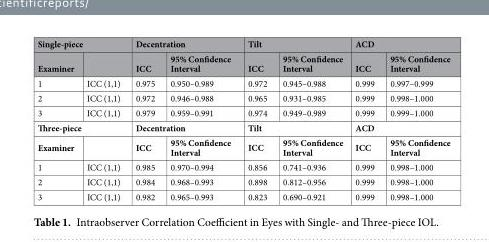table: (36, 37, 449, 202)
table column: (161, 37, 238, 202), (274, 37, 348, 202), (381, 37, 449, 202), (79, 37, 127, 202), (36, 37, 79, 202), (238, 37, 274, 202), (127, 37, 161, 202), (348, 37, 381, 202)
table column header: (36, 37, 449, 75)
table row: (36, 50, 449, 75), (36, 134, 449, 159), (36, 75, 449, 90), (36, 90, 449, 105), (36, 119, 449, 134), (36, 159, 449, 174), (36, 105, 449, 119), (36, 174, 449, 188), (36, 188, 449, 202), (36, 37, 449, 50)
table spanning cell: (127, 119, 238, 134), (238, 119, 348, 134), (348, 119, 449, 134), (127, 37, 238, 50), (238, 37, 348, 50), (36, 119, 127, 134), (348, 37, 449, 50), (36, 37, 127, 50)
